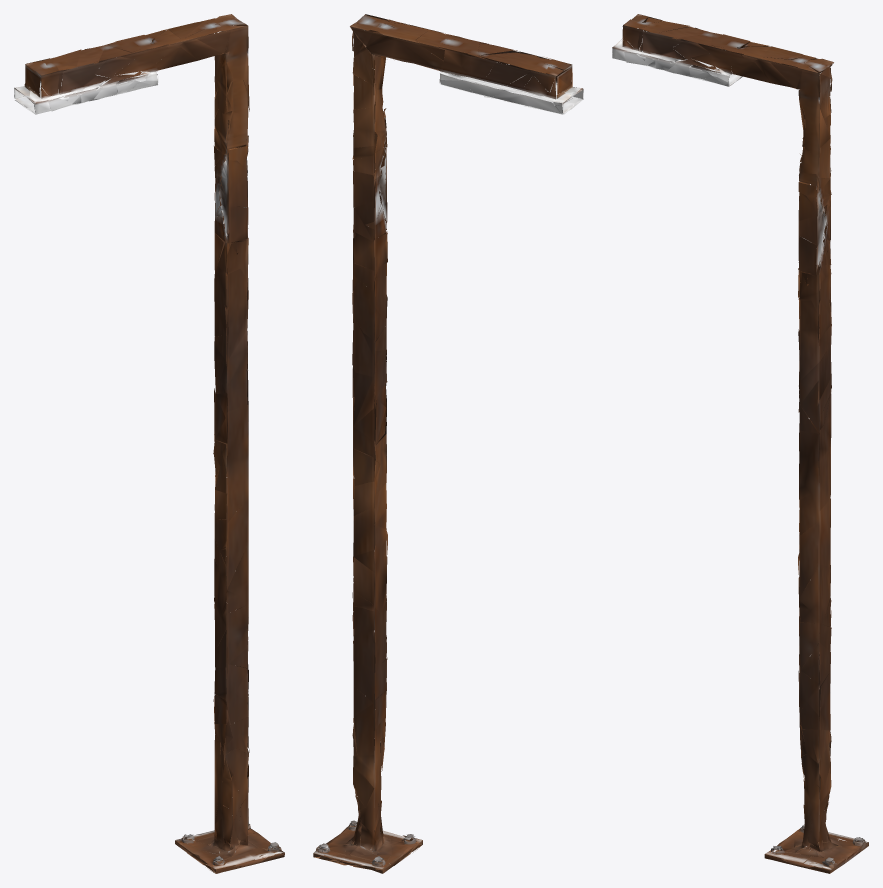
The model's file is lamp.glb.
3 renders of one model, left to right at view 1: azimuth 30°, elevation 25°; view 2: azimuth 150°, elevation 25°; view 3: azimuth 330°, elevation 25°, orthographic. The views are drawn at different scales.
Visible parts, largest first — view 1: LO.001; view 2: LO.001; view 3: LO.001.
Boxes of the visible parts, box(x1,y1,x2,y2) form: LO.001: box(14, 14, 284, 873); LO.001: box(313, 14, 583, 873); LO.001: box(612, 14, 868, 873).
Size of the model in its own units: 0.5798 by 1.91 by 0.1713.
Materials: 1 (1 with a texture image).
